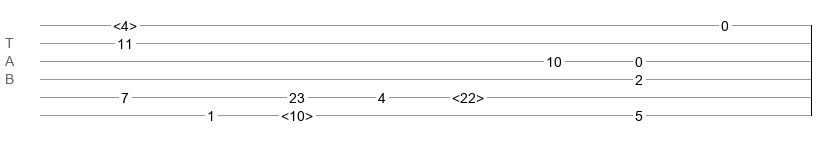0: (635, 54, 643, 64), (721, 18, 729, 28)
1: (207, 108, 215, 118)
10: (546, 54, 562, 64)
11: (117, 36, 133, 46)
2: (635, 72, 643, 82)
23: (289, 90, 305, 100)
4: (378, 90, 386, 100)
5: (635, 108, 643, 118)
7: (121, 90, 129, 100)
harmonic: (281, 108, 313, 118), (452, 90, 484, 100), (113, 18, 137, 28)
